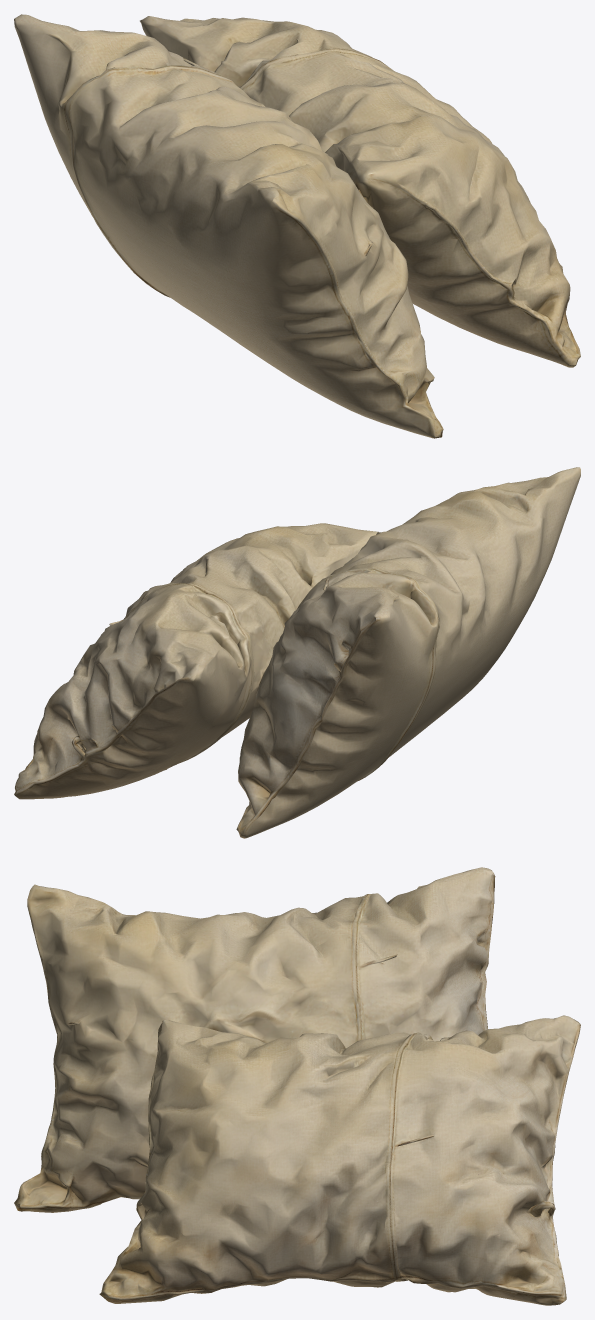
The picture shows the model from 3 angles, top to bottom: view 1: azimuth 30°, elevation 25°; view 2: azimuth 150°, elevation 25°; view 3: azimuth 270°, elevation 25°; orthographic projection. The views are drawn at different scales.
Parts seen in each view (by area): view 1: tripo_node_c54aaedb-fa05-4c44-b2b6-99c6598407a8; view 2: tripo_node_c54aaedb-fa05-4c44-b2b6-99c6598407a8; view 3: tripo_node_c54aaedb-fa05-4c44-b2b6-99c6598407a8.
Part boxes in pixels (bbox=[...]): tripo_node_c54aaedb-fa05-4c44-b2b6-99c6598407a8: bbox=[14, 14, 580, 438]; tripo_node_c54aaedb-fa05-4c44-b2b6-99c6598407a8: bbox=[14, 467, 580, 838]; tripo_node_c54aaedb-fa05-4c44-b2b6-99c6598407a8: bbox=[14, 867, 580, 1305].
Bounding box in the file's own units: 0.7744 × 0.5363 × 1.
1 material, 1 textured.
